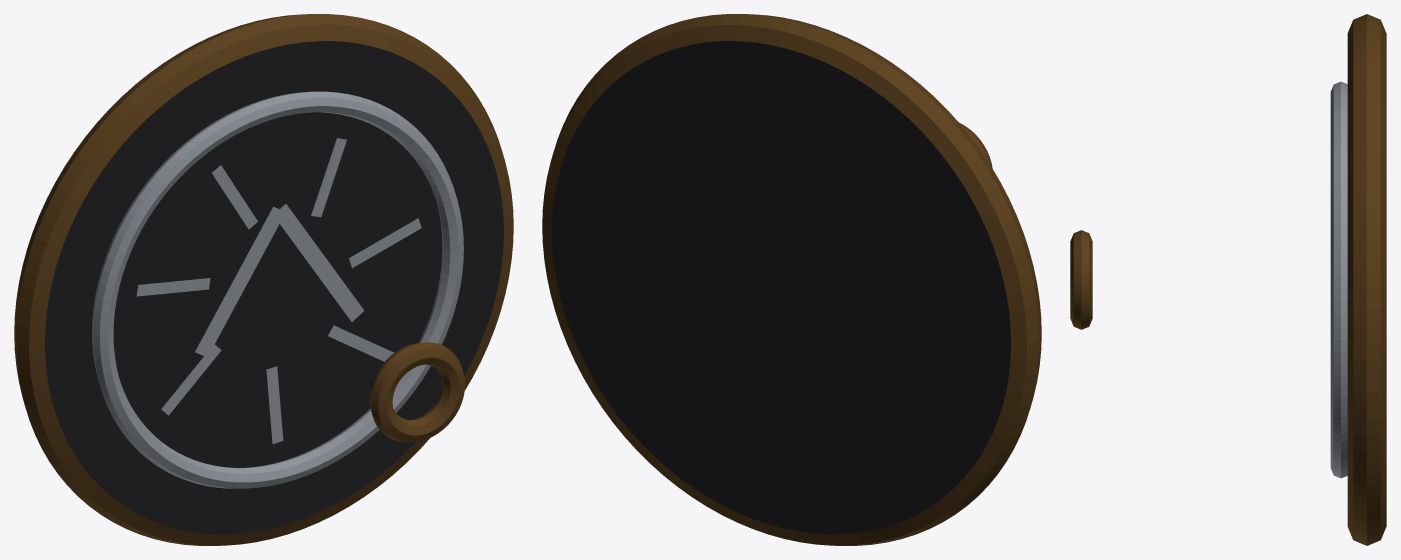
3 renders of one model, left to right at view 1: azimuth 30°, elevation 25°; view 2: azimuth 150°, elevation 25°; view 3: azimuth 270°, elevation 25°, orthographic. The views are drawn at different scales.
Visible parts, largest first — view 1: VeilSealAmulet1348; view 2: VeilSealAmulet1348; view 3: VeilSealAmulet1348.
Boxes of the visible parts, x1,y1,x2,y2 form: VeilSealAmulet1348: (14,14,513,545); VeilSealAmulet1348: (542,14,1041,545); VeilSealAmulet1348: (1070,14,1386,545).
Size of the model in its own units: 0.082 by 0.082 by 0.0487.
